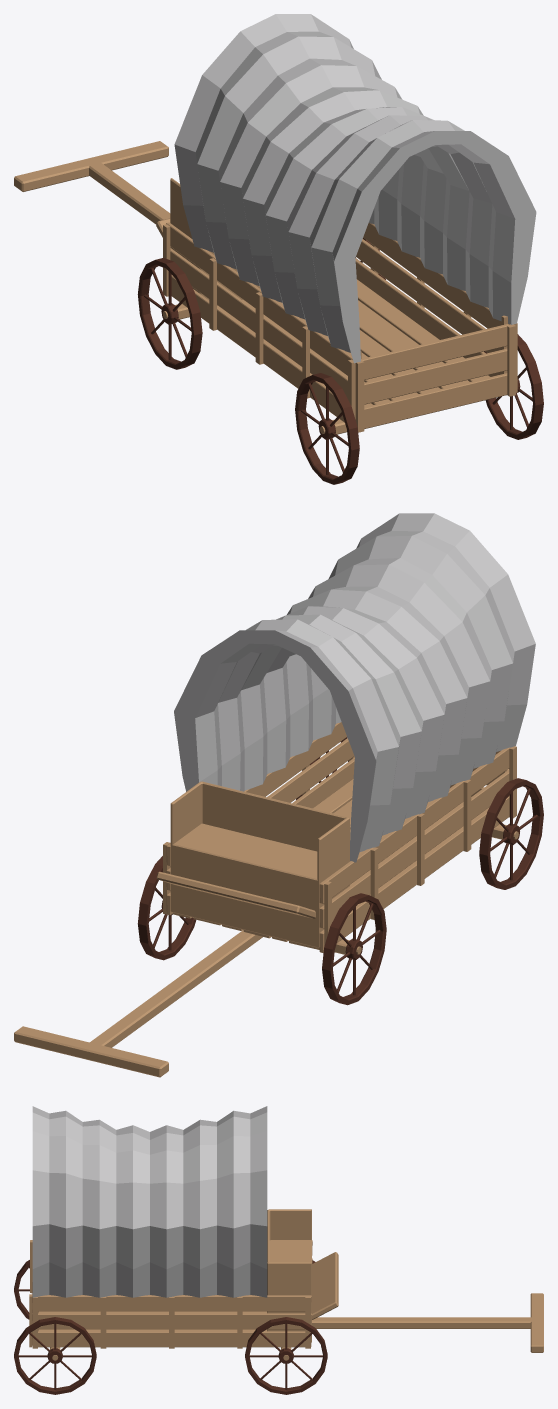
Rendered from Cart C.glb.
The picture shows the model from 3 angles, top to bottom: view 1: azimuth 30°, elevation 25°; view 2: azimuth 150°, elevation 25°; view 3: azimuth 270°, elevation 25°; orthographic projection. The views are drawn at different scales.
Parts seen in each view (by area): view 1: Cart C; view 2: Cart C; view 3: Cart C.
Part boxes in pixels (x1,y1,x2,y2): Cart C: (14, 14, 543, 484); Cart C: (14, 513, 543, 1077); Cart C: (14, 1106, 543, 1394).
Size of the model in its own units: 216 by 345 by 668.
